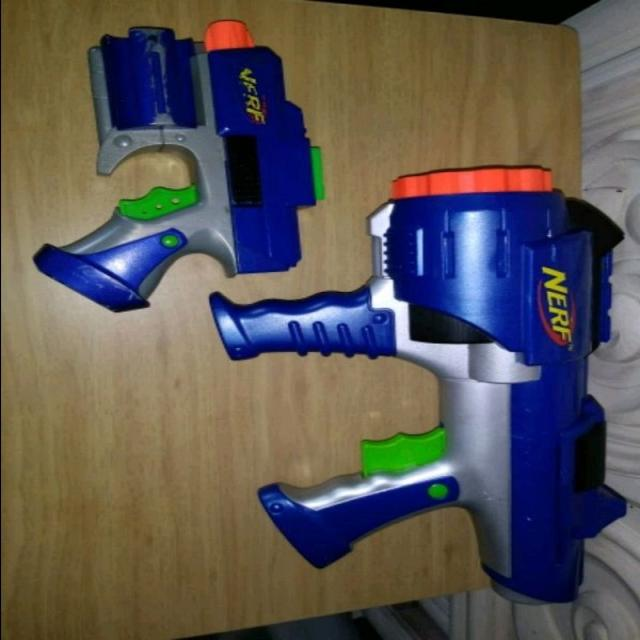Nerf gun: (203, 159, 634, 609), (26, 16, 335, 317)
